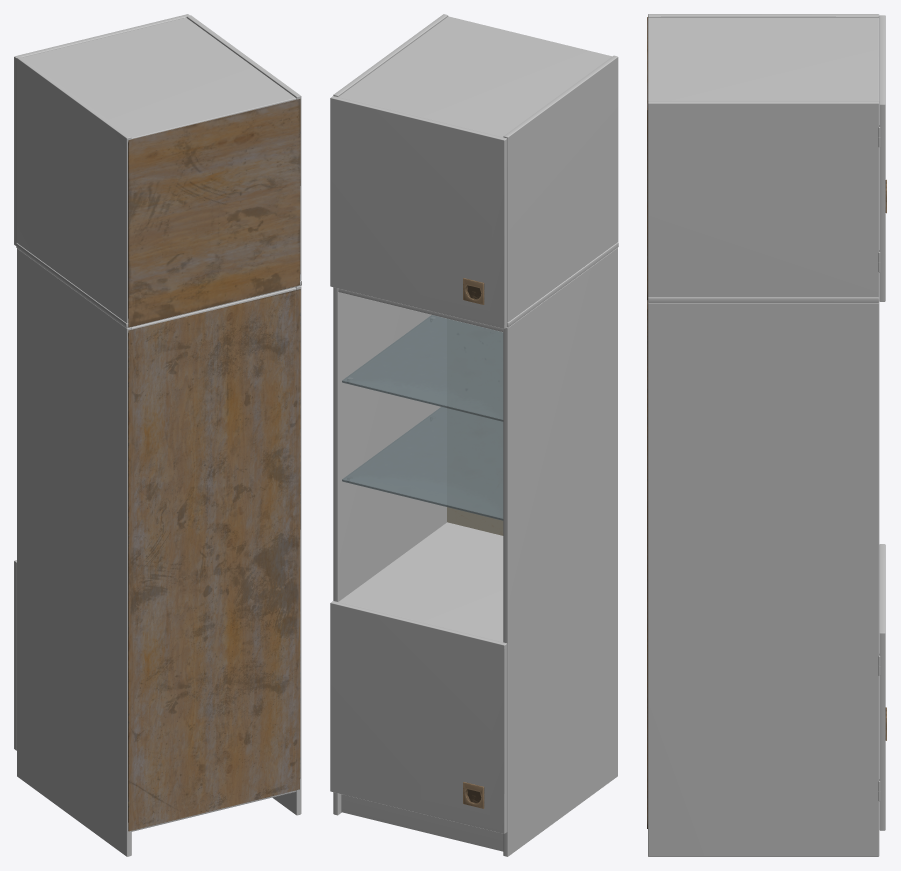
The model's file is Closet01.fbx.
3 renders of one model, left to right at view 1: azimuth 30°, elevation 25°; view 2: azimuth 150°, elevation 25°; view 3: azimuth 270°, elevation 25°, orthographic. The views are drawn at different scales.
Parts seen in each view (by area): view 1: BackBottom (×2), BodyBottom, BodyUp01, BackUp01, Door (×2); view 2: BodyBottom, Door (×2), BodyUp01, Glass2 (×2), Glass (×2), BackBottom; view 3: BodyBottom, BodyUp01, Door (×2), BackBottom.
Boxes of the visible parts, bbox=[...] form: BackBottom (×2): bbox=[128, 290, 300, 830]; BodyBottom: bbox=[17, 248, 301, 856]; BodyUp01: bbox=[16, 15, 301, 328]; BackUp01: bbox=[128, 99, 300, 326]; Door (×2): bbox=[14, 14, 189, 750]; BodyBottom: bbox=[333, 247, 617, 856]; Door (×2): bbox=[330, 96, 507, 833]; BodyUp01: bbox=[333, 14, 618, 327]; Glass2 (×2): bbox=[342, 407, 503, 520]; Glass (×2): bbox=[342, 315, 503, 421]; BackBottom: bbox=[348, 317, 503, 535]; BodyBottom: bbox=[648, 302, 879, 856]; BodyUp01: bbox=[648, 14, 879, 302]; Door (×2): bbox=[878, 15, 885, 830]; BackBottom: bbox=[647, 309, 647, 824].
Bounding box in the file's own units: 70.49 × 275 × 79.28.
